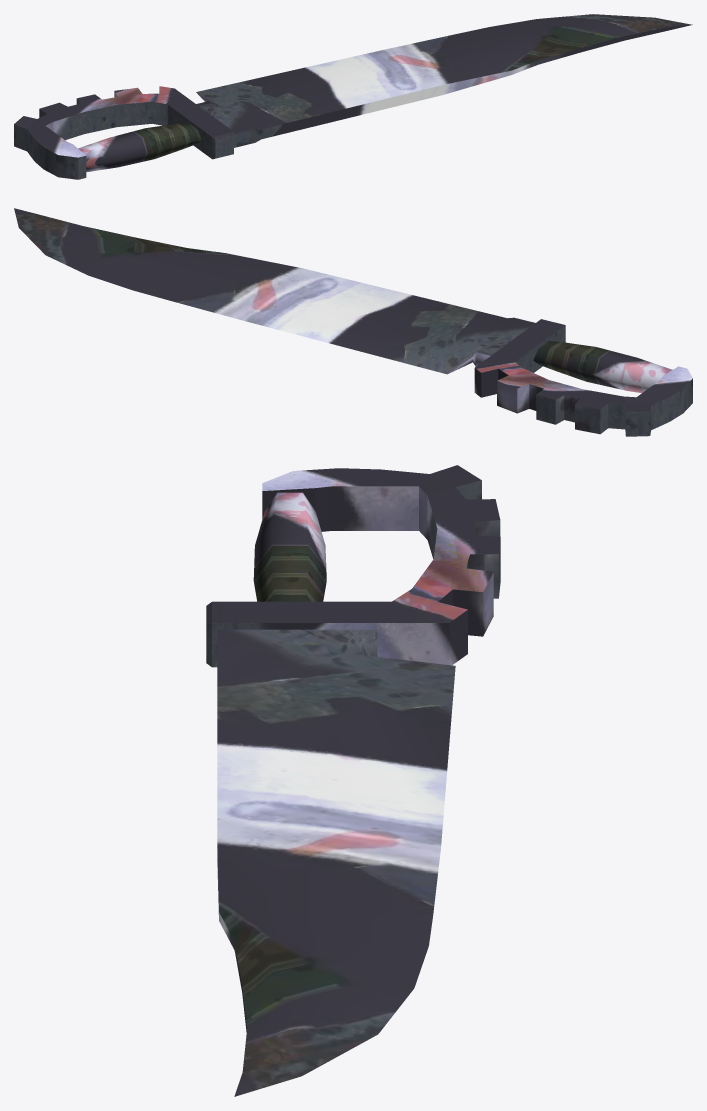
Rendered from world_knife_bowie.glb.
3 renders of one model, top to bottom at view 1: azimuth 30°, elevation 25°; view 2: azimuth 150°, elevation 25°; view 3: azimuth 270°, elevation 25°, orthographic. The views are drawn at different scales.
Visible parts, largest first — view 1: world_knife_bowie; view 2: world_knife_bowie; view 3: world_knife_bowie.
Part boxes in pixels (bbox=[...]): world_knife_bowie: bbox=[14, 14, 692, 179]; world_knife_bowie: bbox=[14, 208, 692, 436]; world_knife_bowie: bbox=[206, 465, 500, 1096].
Size of the model in its own units: 0.6478 by 0.0241 by 0.1325.
1 material, 1 textured.
